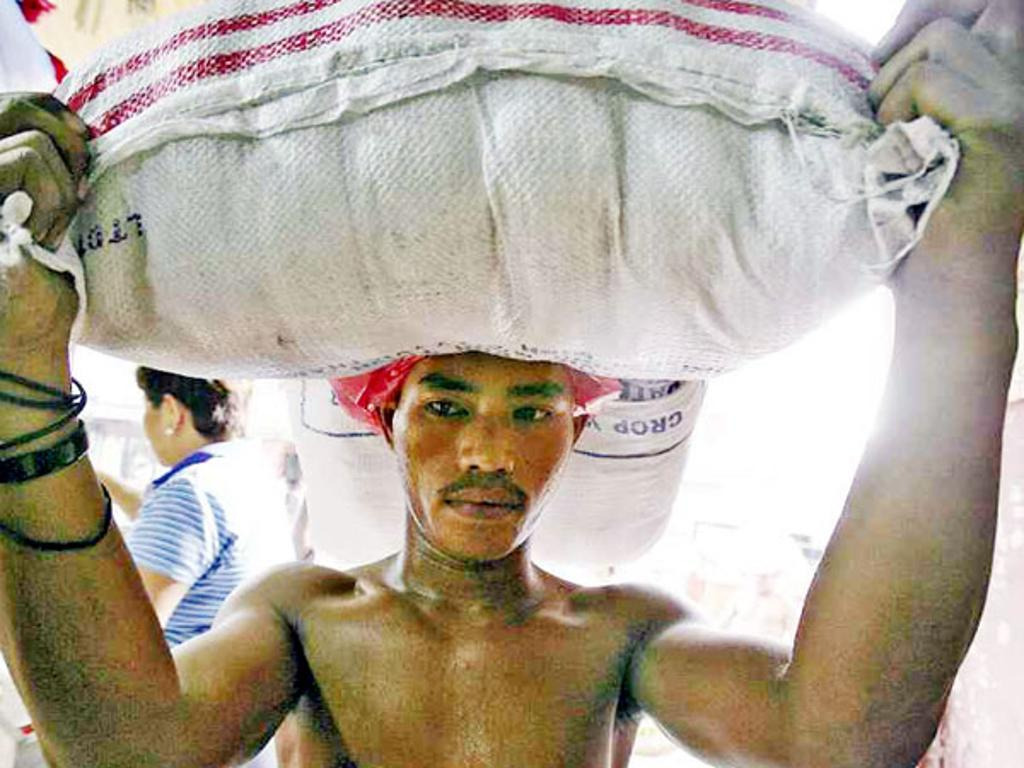face: (398, 320, 558, 540)
